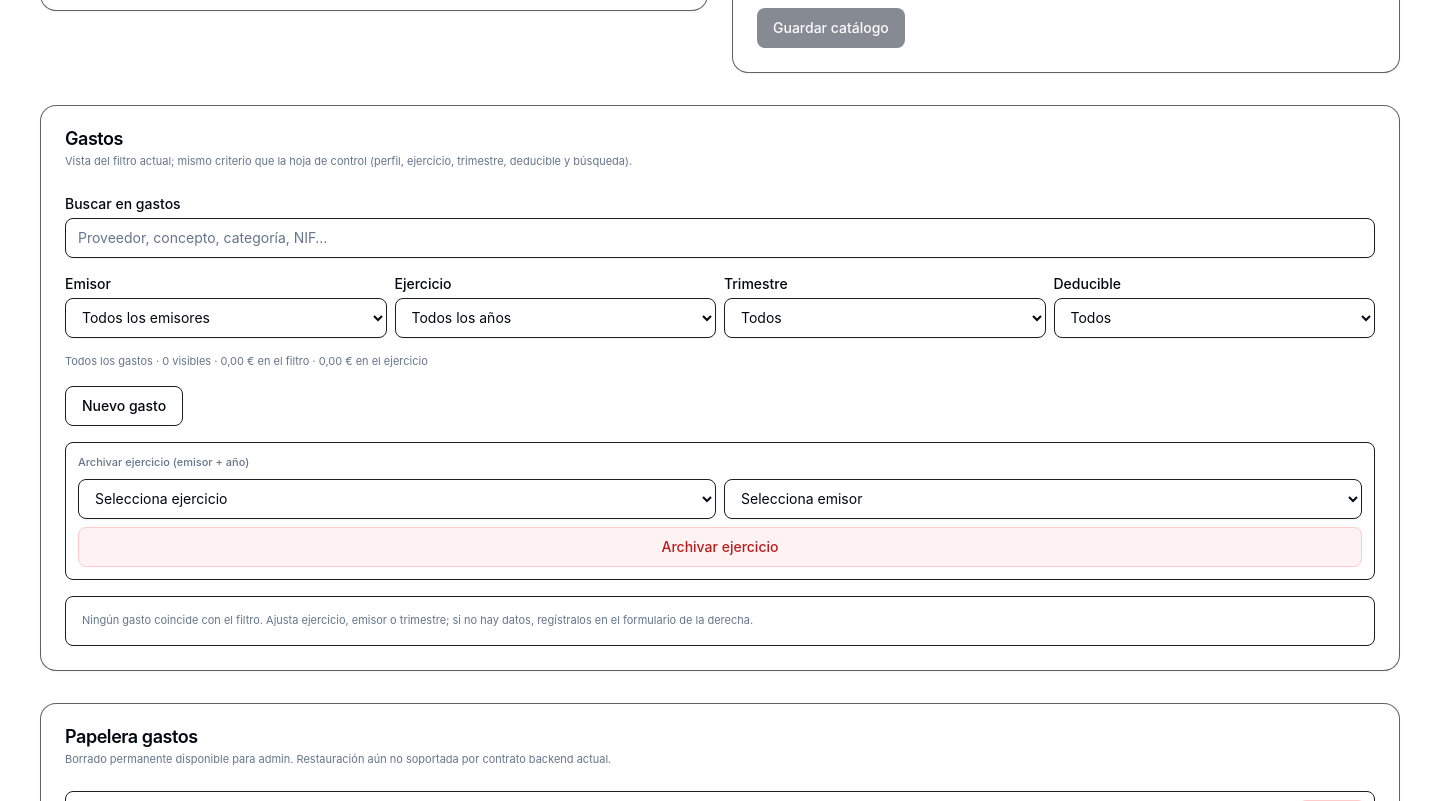
Scenario: ExpensesPage regression › shows server validation message when saveExpense rejects with ApiError payload
This screenshot has width=1440, height=801.
(page scrolled)
Click the button "Nuevo gasto" at (124, 406), box [65,386,183,426]
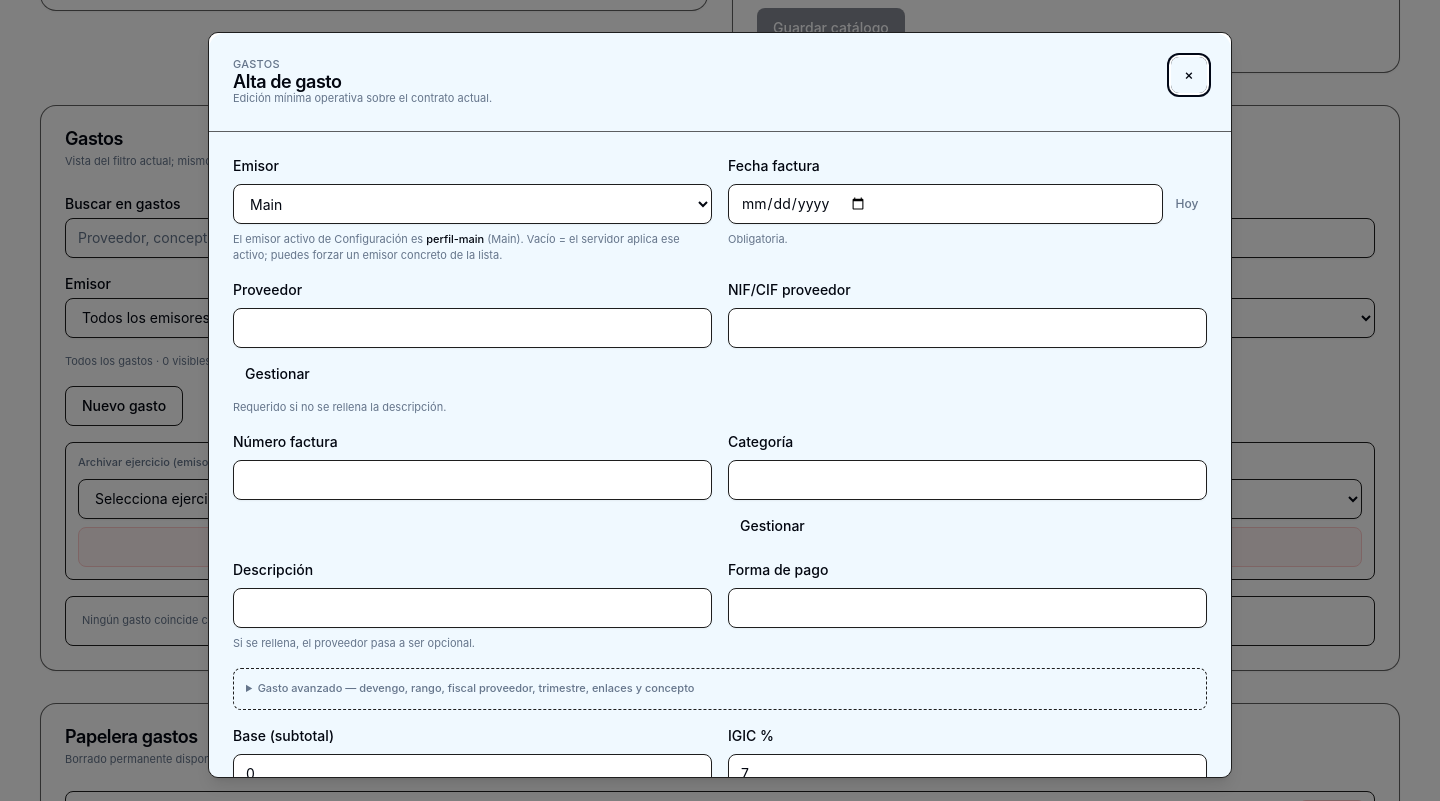
Click the button with aria-label "Poner fecha factura a hoy" at (1187, 204), box [1167,184,1207,224]
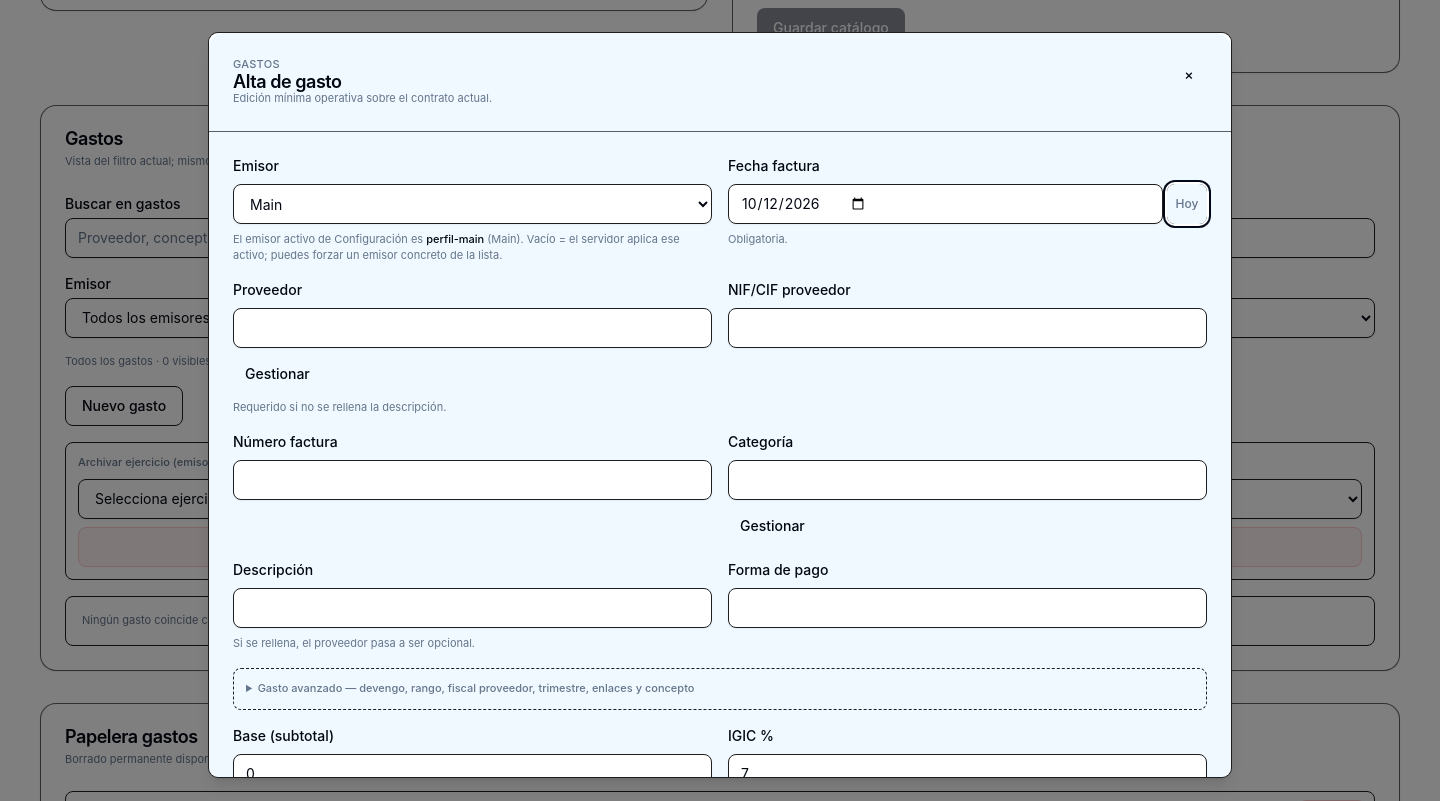
Type "Proveedor X" into the field named "Proveedor del gasto" at (472, 328), box [233,308,712,348]
(page scrolled)
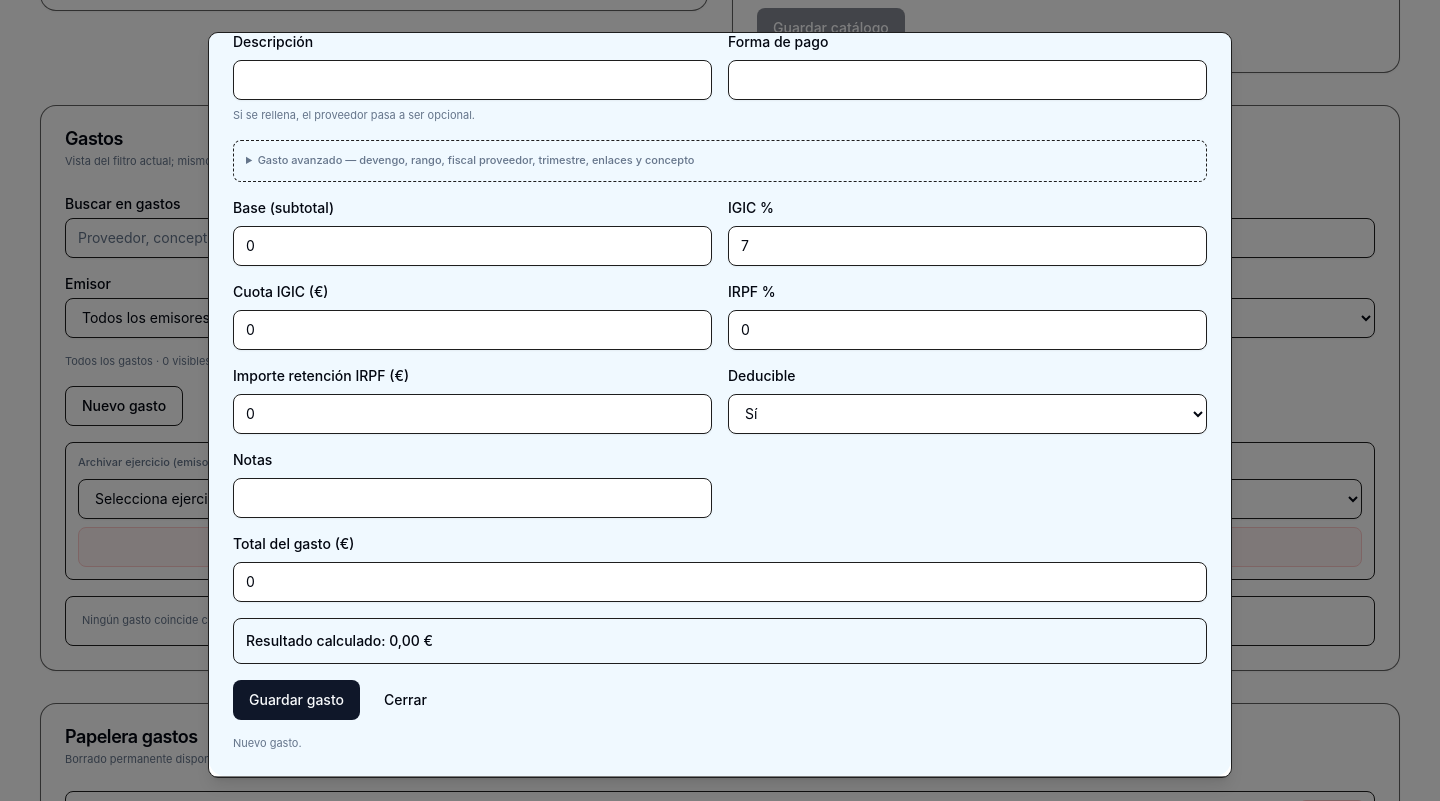
Click the button "Guardar gasto" at (296, 700), box [233,680,360,720]
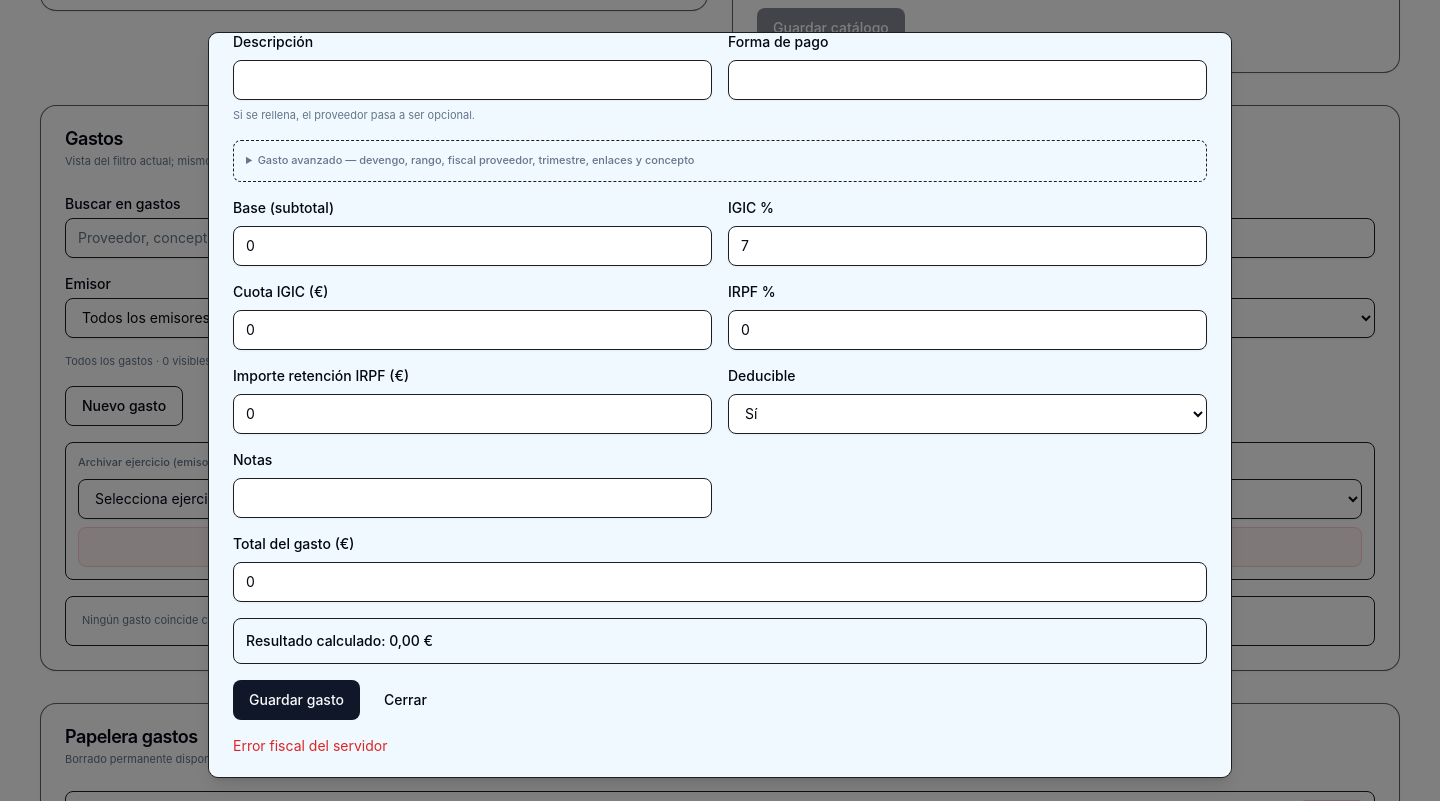
Check: the text "Error fiscal del servidor" is shown, box [233,737,387,754]
